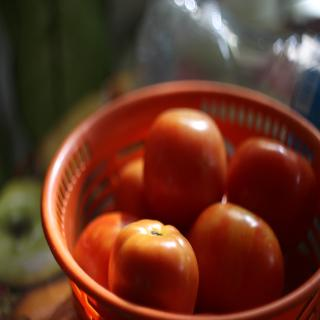tomato: (187, 200, 285, 310), (226, 138, 316, 248), (146, 107, 228, 221), (108, 218, 201, 314), (73, 212, 139, 288)
